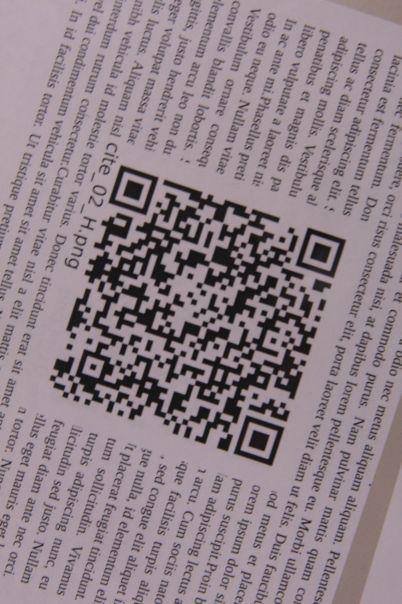Finder pattern: (231, 414, 288, 471), (296, 225, 352, 279), (107, 165, 162, 218)
